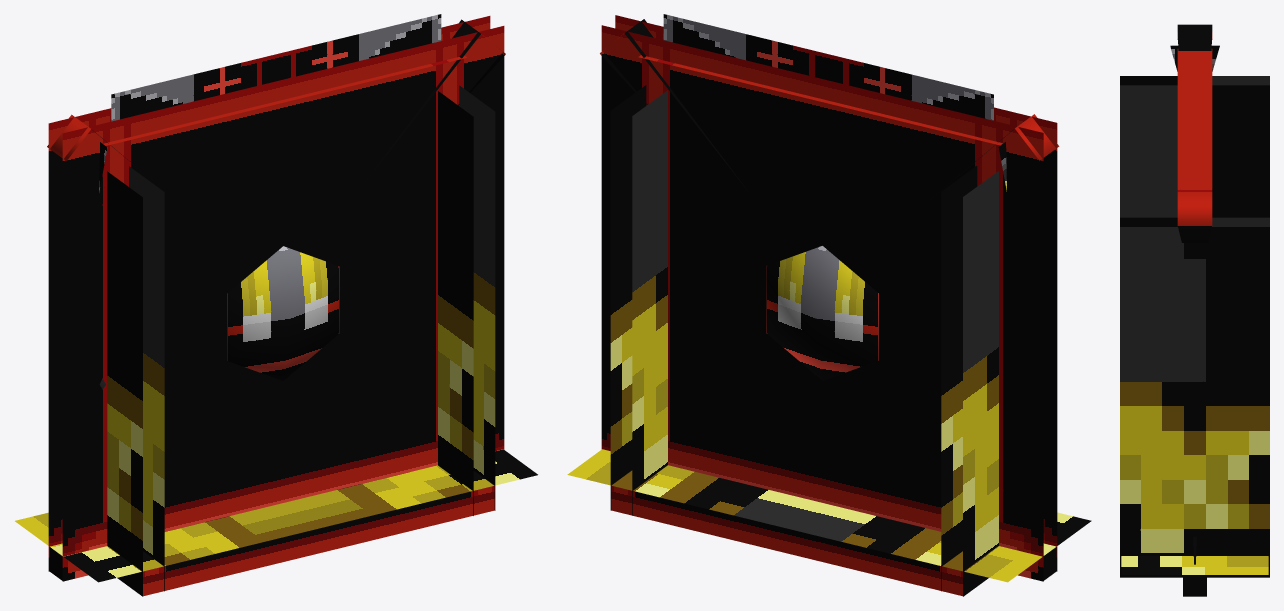
3 renders of one model, left to right at view 1: azimuth 30°, elevation 25°; view 2: azimuth 150°, elevation 25°; view 3: azimuth 270°, elevation 25°, orthographic. The views are drawn at different scales.
Visible parts, largest first — view 1: 3101imrl07_10; view 2: 3101imrl07_10; view 3: 3101imrl07_10.
Part boxes in pixels (x1,y1,x2,y2): 3101imrl07_10: (15, 14, 537, 596); 3101imrl07_10: (567, 14, 1091, 596); 3101imrl07_10: (1120, 24, 1269, 596).
Bounding box in the file's own units: 1.93 × 1.95 × 0.644.
Materials: 2 (2 with a texture image).
